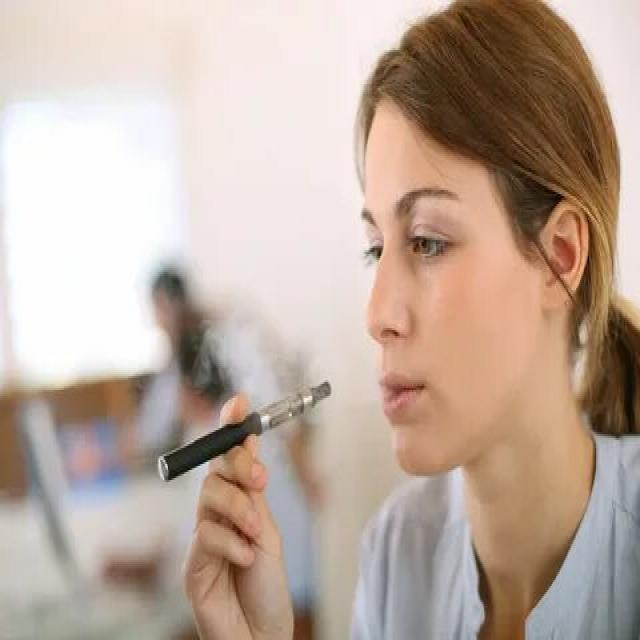cigarette: (156, 374, 339, 484)
